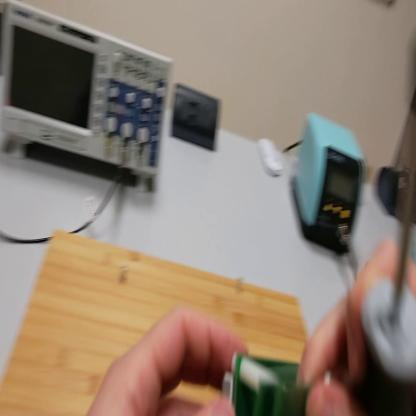hand: (295, 240, 416, 416), (86, 311, 249, 416)
low voltage board: (226, 344, 298, 416)
oscilloscope: (2, 1, 176, 198)
socket: (376, 167, 415, 222)
welder station: (293, 113, 366, 257)
working area: (3, 234, 311, 414)
